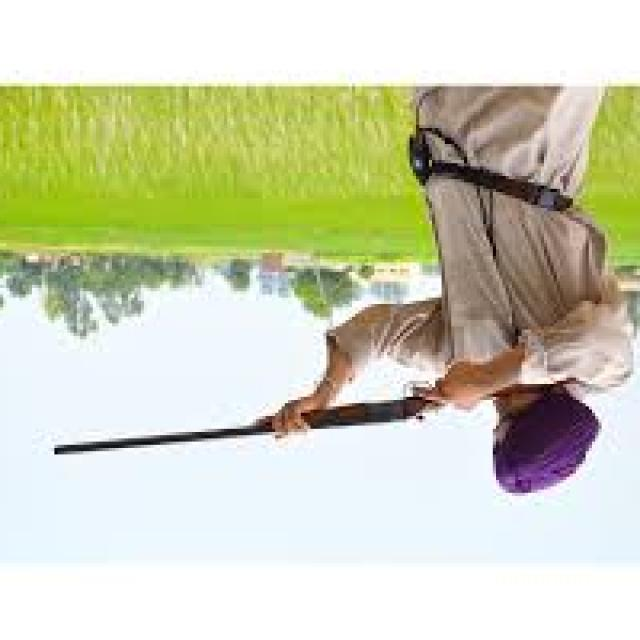gun: (44, 374, 482, 468)
